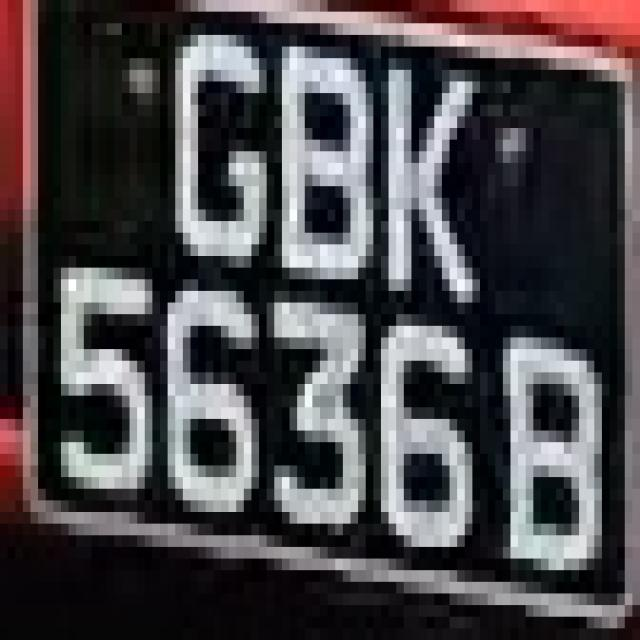3: (252, 256, 374, 559)
5: (38, 244, 160, 536)
6: (144, 233, 266, 512), (366, 279, 480, 570)
B: (488, 279, 610, 605), (252, 24, 374, 338)
G: (137, 12, 297, 291)
K: (358, 12, 472, 291)
